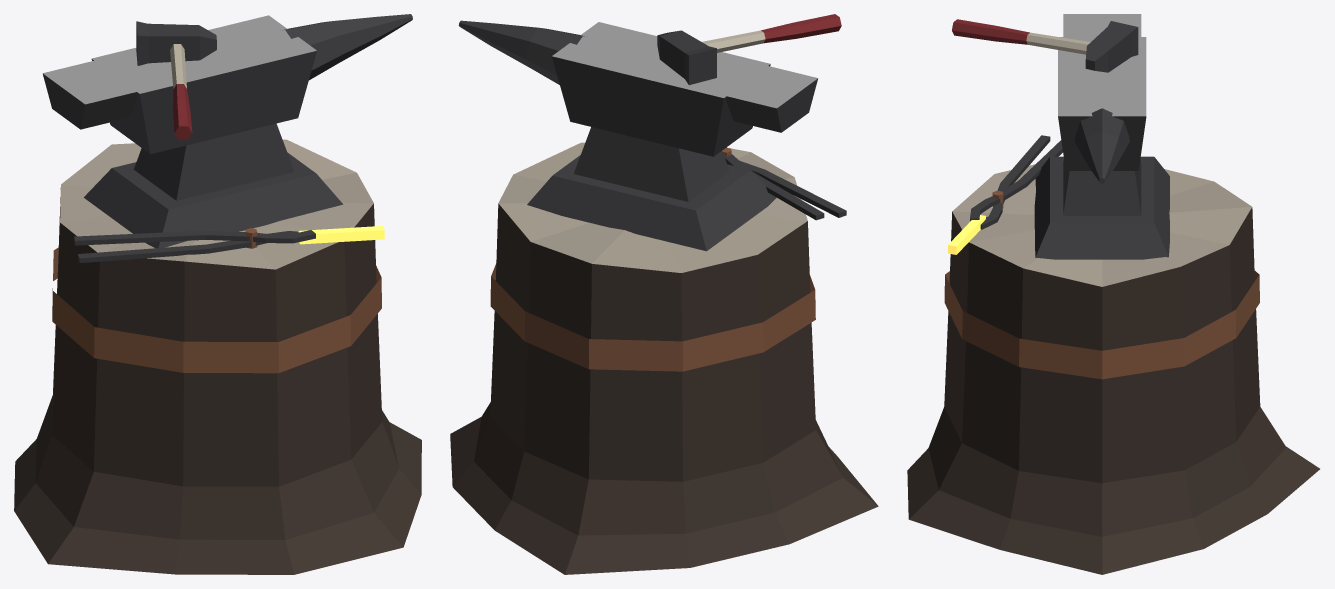
Rendered from anvil.glb.
3 views of the same model, side by side, from view 1: azimuth 30°, elevation 25°; view 2: azimuth 150°, elevation 25°; view 3: azimuth 270°, elevation 25° (orthographic). The views are drawn at different scales.
Visible parts, largest first — view 1: stump, anvil, stump_band, hammer_head, tongs_arm_b, tongs_arm_a, hammer_handle, hot_iron; view 2: stump, anvil, stump_band, hammer_head, hammer_handle, tongs_arm_a, tongs_arm_b; view 3: stump, anvil, stump_band, hammer_handle, hammer_head, tongs_arm_a, tongs_arm_b, hot_iron.
Boxes of the visible parts, bbox=[...] form: stump: bbox=[14, 139, 421, 574]; anvil: bbox=[42, 14, 412, 248]; stump_band: bbox=[52, 247, 381, 373]; hammer_head: bbox=[136, 21, 216, 65]; tongs_arm_b: bbox=[74, 230, 315, 245]; tongs_arm_a: bbox=[78, 228, 298, 262]; hammer_handle: bbox=[170, 44, 192, 140]; hot_iron: bbox=[298, 226, 384, 244]; stump: bbox=[450, 142, 878, 574]; anvil: bbox=[458, 20, 818, 251]; stump_band: bbox=[490, 263, 815, 371]; hammer_head: bbox=[657, 30, 716, 85]; hammer_handle: bbox=[702, 14, 841, 52]; tongs_arm_a: bbox=[722, 147, 846, 217]; tongs_arm_b: bbox=[724, 147, 824, 220]; stump: bbox=[907, 164, 1319, 574]; anvil: bbox=[1034, 14, 1169, 259]; stump_band: bbox=[944, 271, 1259, 379]; hammer_handle: bbox=[952, 19, 1090, 54]; hammer_head: bbox=[1085, 21, 1138, 72]; tongs_arm_a: bbox=[980, 135, 1050, 229]; tongs_arm_b: bbox=[970, 140, 1062, 221]; hot_iron: bbox=[948, 215, 985, 254].
Size of what is drawn, in the model's own units: 0.8274 by 0.9097 by 0.7935.
